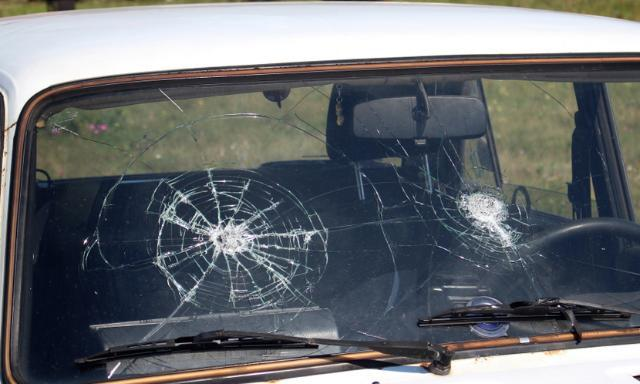Windshield: (33, 58, 640, 384)
